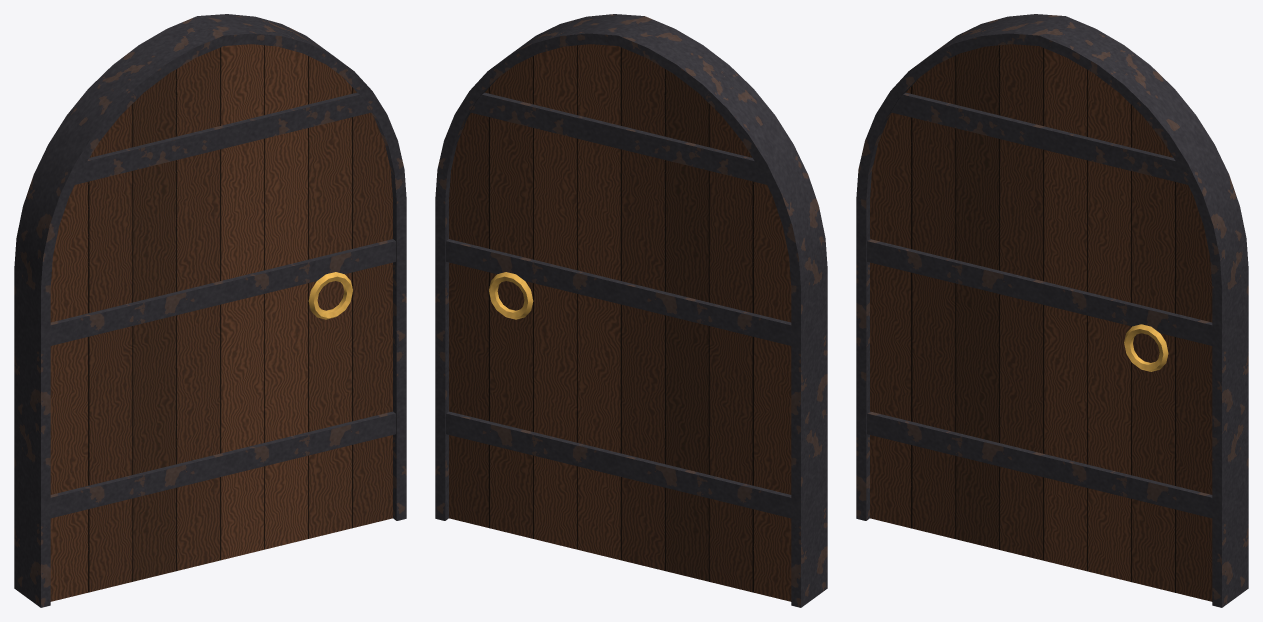
Rendered from dun_door.glb.
The picture shows the model from 3 angles, left to right: view 1: azimuth 30°, elevation 25°; view 2: azimuth 150°, elevation 25°; view 3: azimuth 330°, elevation 25°; orthographic projection.
Parts seen in each view (by area): view 1: dun_door_dwood_0, dun_door_iron_0, dun_door_gold_0; view 2: dun_door_dwood_0, dun_door_iron_0, dun_door_gold_0; view 3: dun_door_dwood_0, dun_door_iron_0, dun_door_gold_0.
Part boxes in pixels (x1=…): dun_door_dwood_0: x1=50, y1=44, x2=392, y2=601; dun_door_iron_0: x1=14, y1=14, x2=406, y2=607; dun_door_gold_0: x1=308, y1=272, x2=352, y2=319; dun_door_dwood_0: x1=449, y1=44, x2=791, y2=601; dun_door_iron_0: x1=435, y1=14, x2=827, y2=607; dun_door_gold_0: x1=489, y1=272, x2=533, y2=319; dun_door_dwood_0: x1=870, y1=44, x2=1212, y2=601; dun_door_iron_0: x1=856, y1=14, x2=1248, y2=607; dun_door_gold_0: x1=1124, y1=324, x2=1168, y2=371.
Size of the model in its own units: 2.22 by 3.06 by 0.3276.
3 materials, 3 textured.
